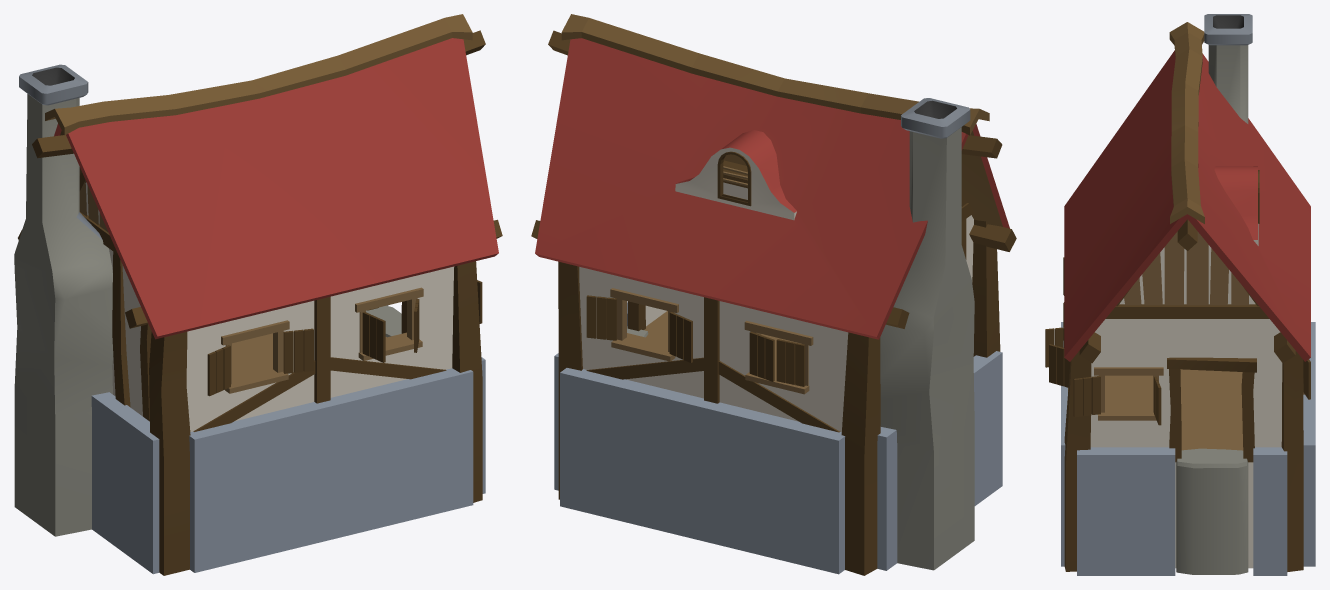
Rendered from House_04_LOD1.fbx.
The picture shows the model from 3 angles, left to right: view 1: azimuth 30°, elevation 25°; view 2: azimuth 150°, elevation 25°; view 3: azimuth 270°, elevation 25°; orthographic projection. The views are drawn at different scales.
Parts seen in each view (by area): view 1: House_02_LOD1; view 2: House_02_LOD1; view 3: House_02_LOD1.
Boxes of the visible parts, x1,y1,x2,y2 form: House_02_LOD1: (14,14,502,575); House_02_LOD1: (531,14,1016,575); House_02_LOD1: (1045,14,1315,575).
Bounding box in the file's own units: 1181 × 1122 × 688.
Materials: 1 (1 with a texture image).
